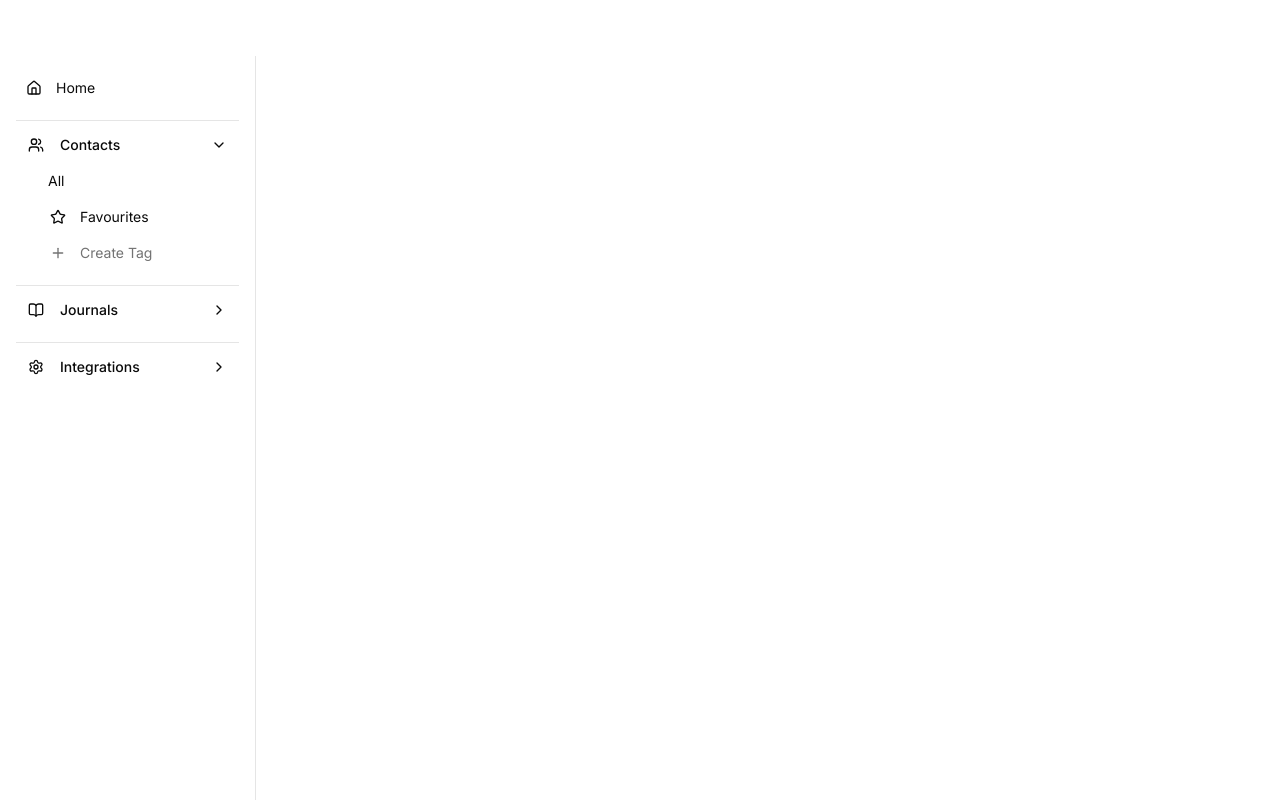
Sidebar - Journal Tags › tag management › opens the journal create-tag dialog from the Journals section
Step 1. Click the button "Journals" → (128, 310), box [16, 294, 239, 326]
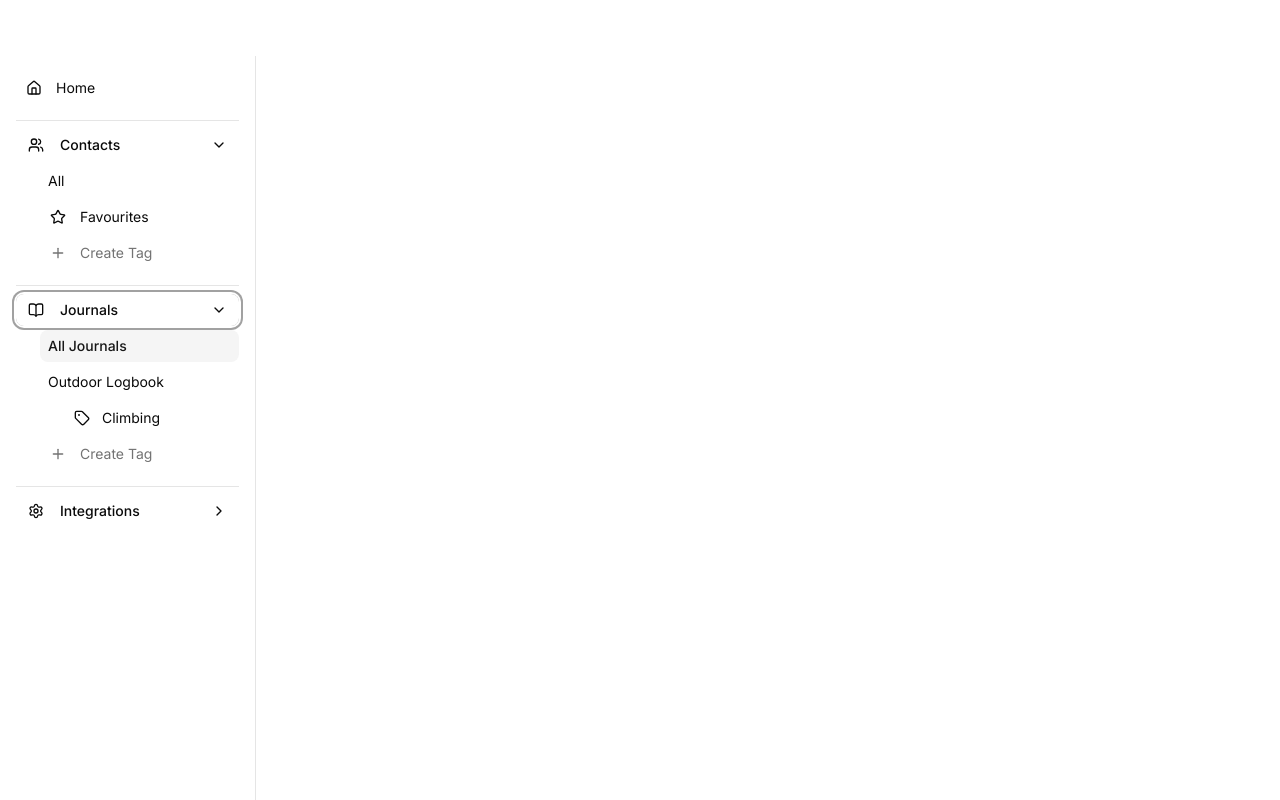
Step 2. Click the button with test id "journal-create-tag-button" → (140, 454), box [40, 438, 239, 470]
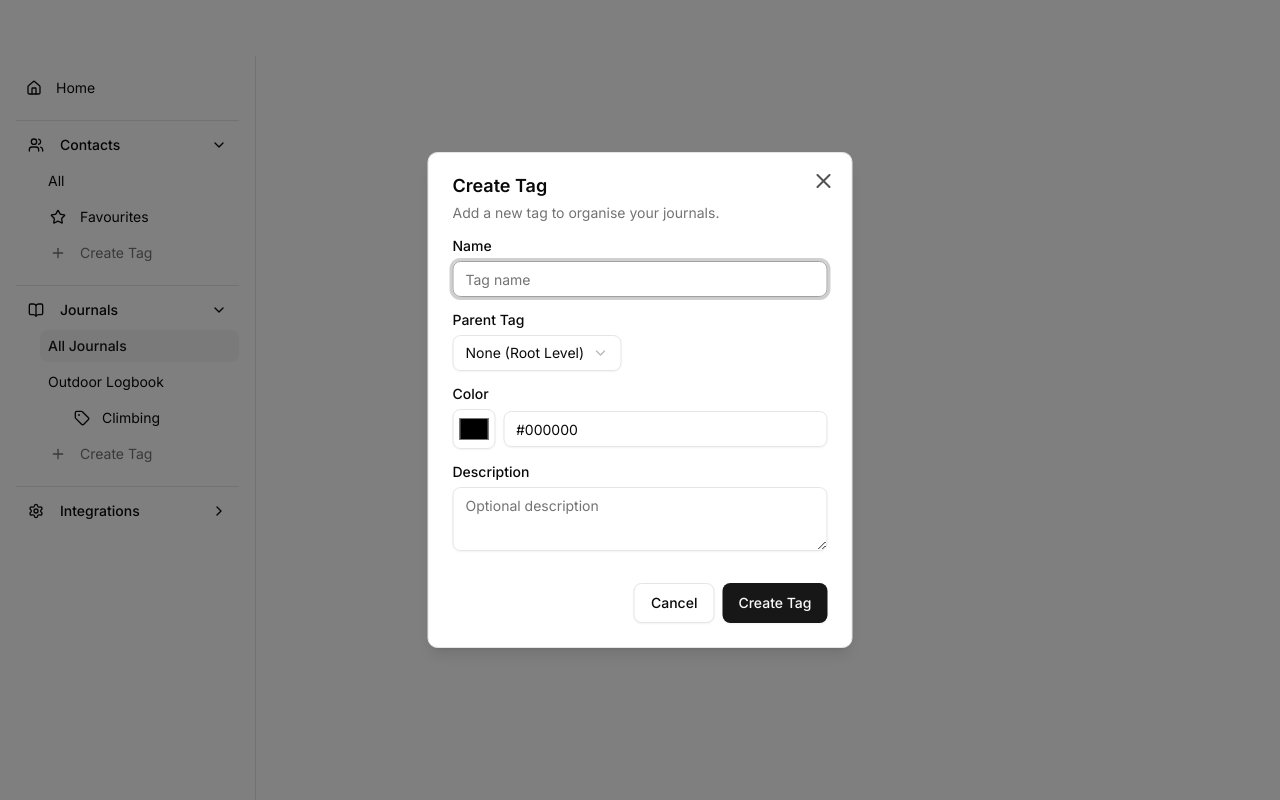
Now the dialog "Create Tag" is shown, box [428, 152, 852, 648]
Now the text "Add a new tag to organise your journals." is shown, box [452, 204, 719, 221]
